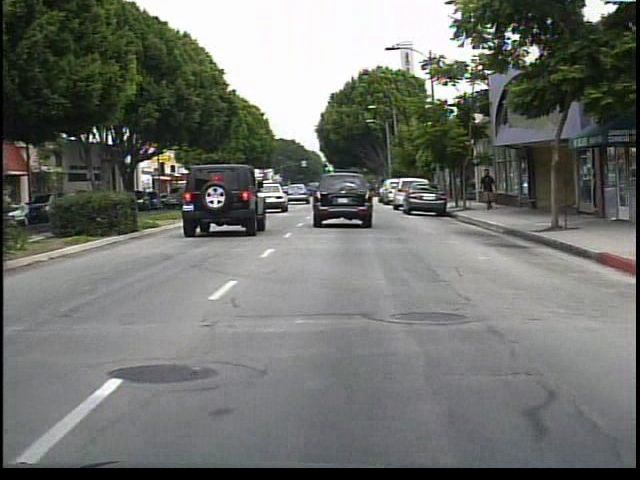person: (477, 166, 501, 214)
